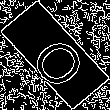O_NE: (20, 22, 90, 88)
